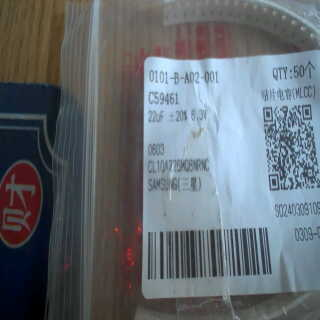22uF: (147, 106, 167, 124)
